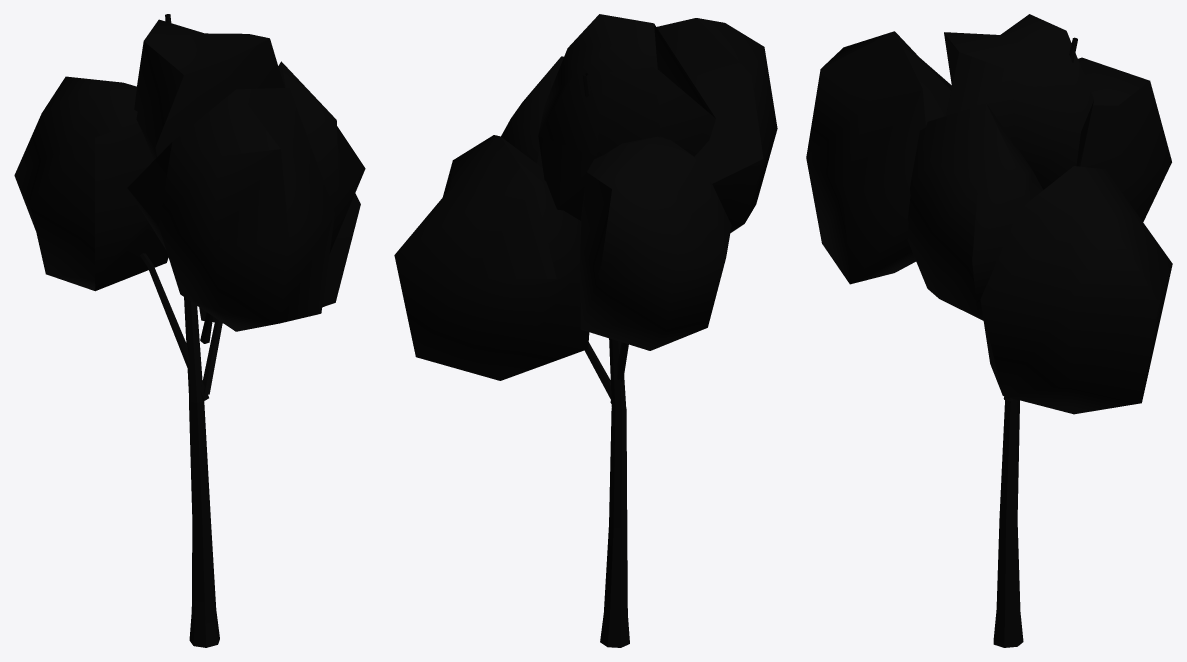
The model's file is SM_birch.fbx.
3 views of the same model, side by side, from view 1: azimuth 30°, elevation 25°; view 2: azimuth 150°, elevation 25°; view 3: azimuth 270°, elevation 25° (orthographic).
Parts seen in each view (by area): view 1: birch_crown, birch; view 2: birch_crown, birch; view 3: birch_crown, birch.
Part boxes in pixels (<box>): birch_crown: <box>14,14,365,403</box>; birch: <box>189,400,219,647</box>; birch_crown: <box>394,14,777,410</box>; birch: <box>600,408,629,647</box>; birch_crown: <box>806,14,1172,414</box>; birch: <box>993,400,1023,647</box>.
Bounding box in the file's own units: 3.64 × 7.2 × 3.92.
